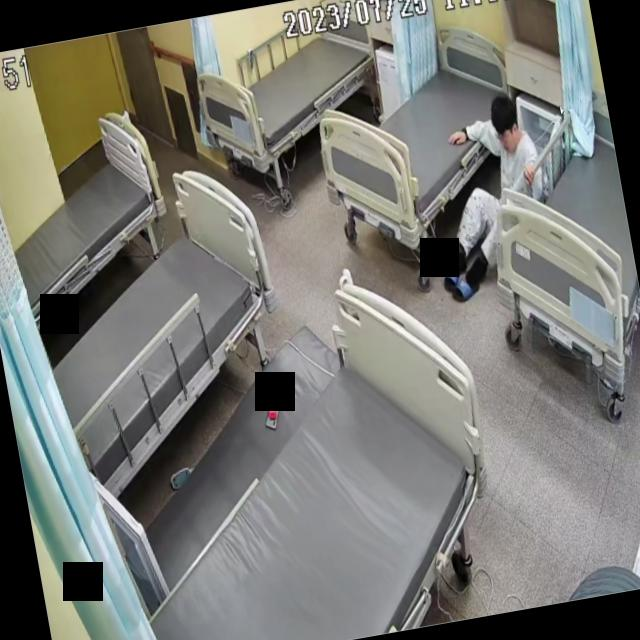bed: (98, 275, 506, 640), (18, 164, 298, 494), (470, 88, 640, 400), (303, 26, 528, 239), (0, 105, 181, 327), (192, 4, 388, 178)
fall: (411, 82, 562, 306)
patient: (410, 82, 562, 304)
